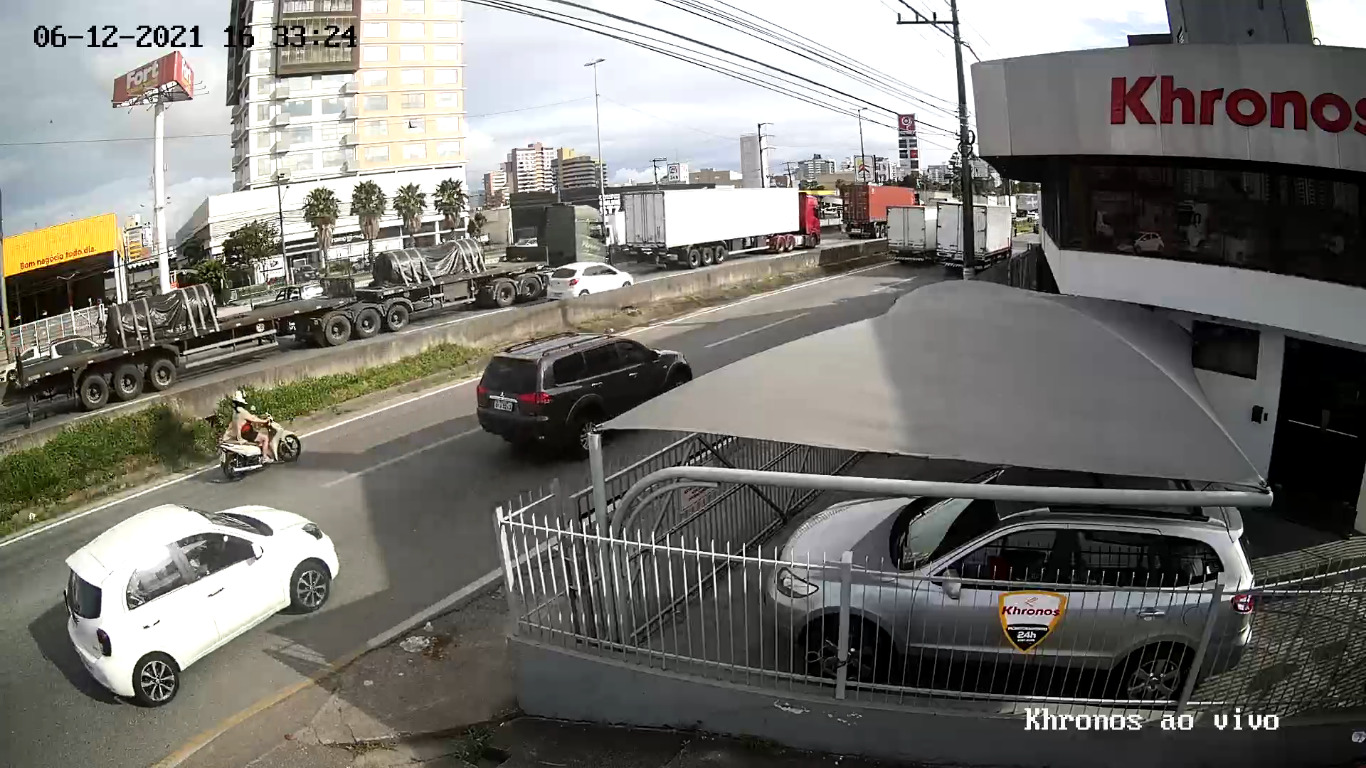car: (63, 500, 340, 706), (475, 330, 693, 457)
